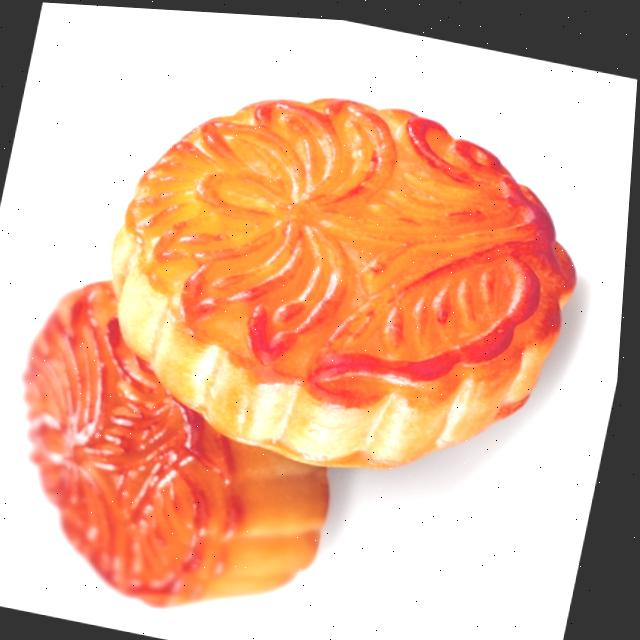蛋糕甜品: (0, 18, 639, 640)
